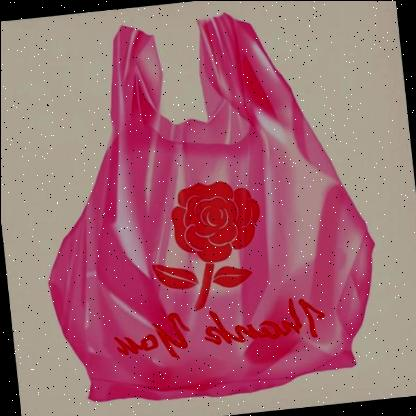Others: (47, 13, 376, 402)
